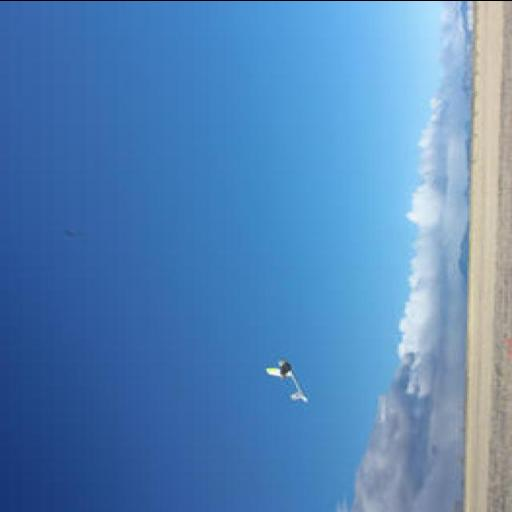uav: (260, 350, 312, 408)
